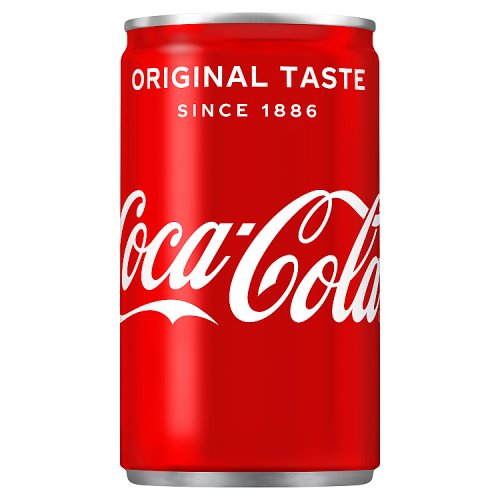Coca-Cola: (101, 12, 388, 487)
